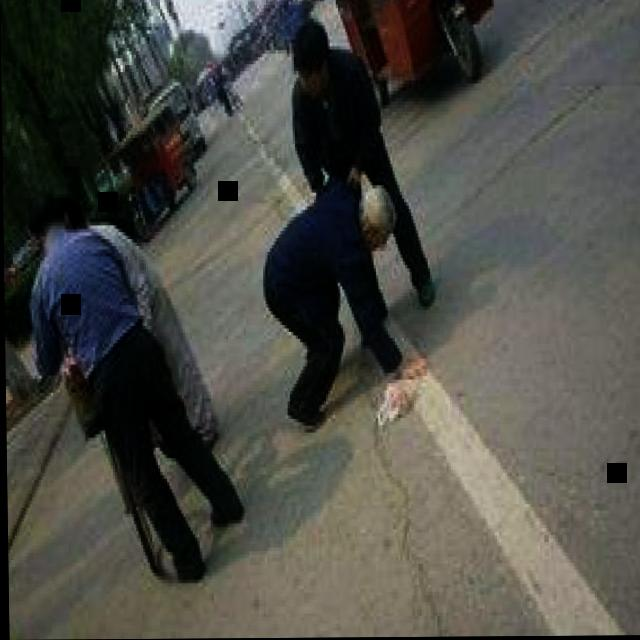Fall-Detected: (243, 165, 429, 430)
